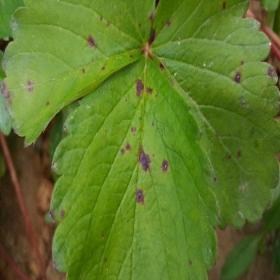Leaf Spot: (49, 51, 221, 279), (147, 0, 279, 232), (0, 0, 158, 149)
